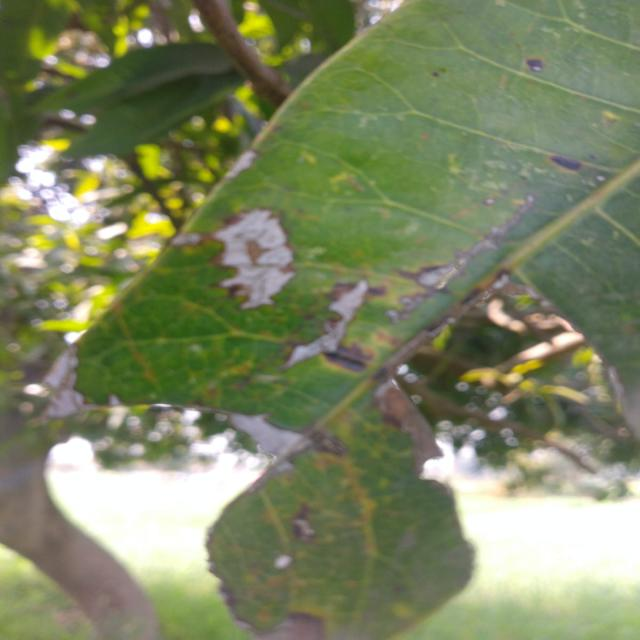Anthracnose: (541, 148, 587, 177)
Powdery Mildew: (210, 199, 310, 311)
black die: (526, 53, 551, 76)
